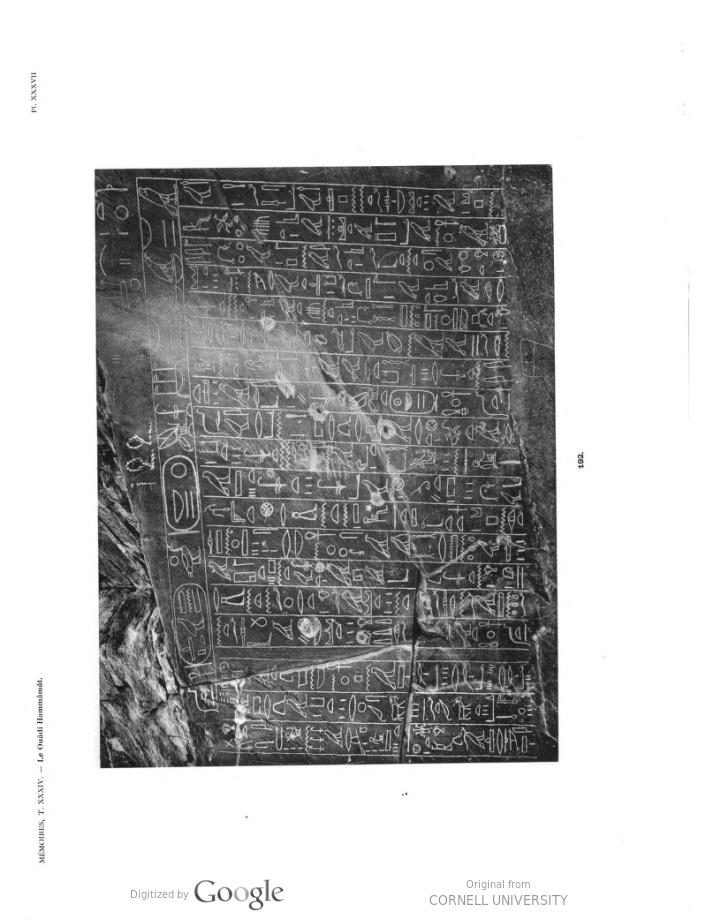circle: (148, 446, 210, 548), (161, 576, 222, 679), (381, 377, 451, 420)
